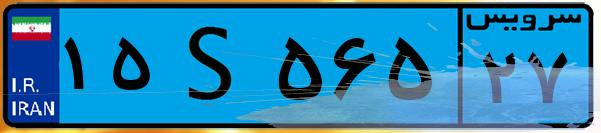1: (57, 26, 110, 100)
2: (475, 38, 525, 113)
5: (270, 28, 330, 110), (385, 28, 445, 110), (110, 28, 158, 98)
6: (330, 28, 385, 110)
7: (525, 38, 570, 115)
S: (158, 12, 270, 120)
